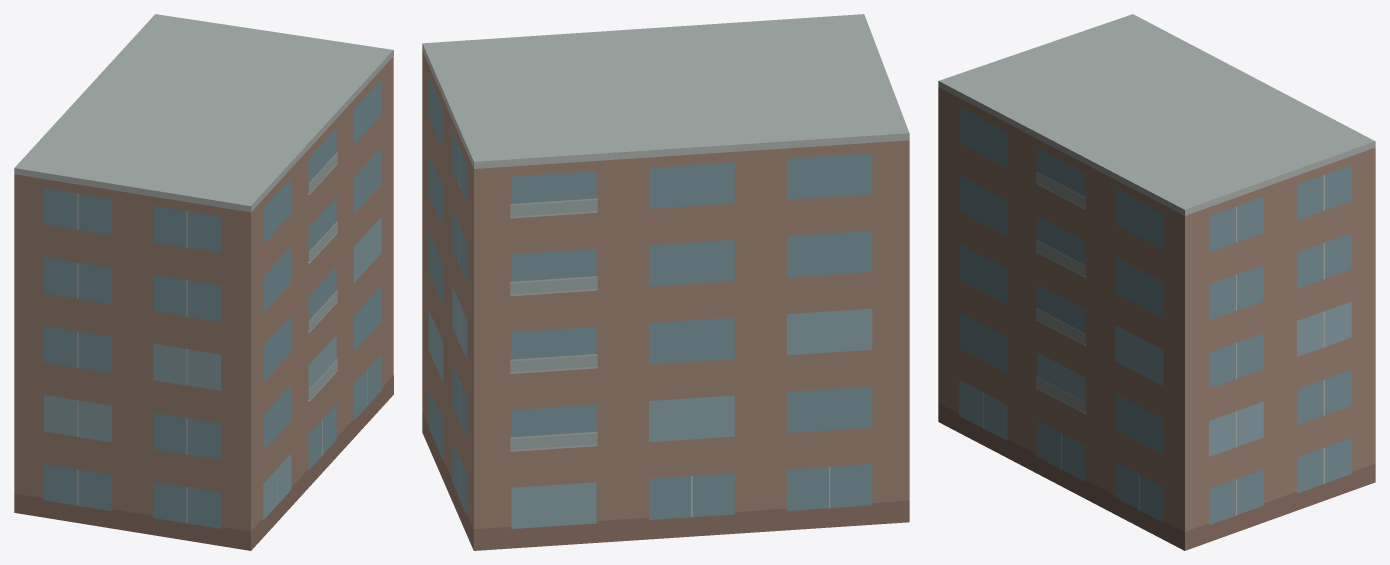
Rendered from survey-upis-32969354.glb.
3 renders of one model, left to right at view 1: azimuth 30°, elevation 25°; view 2: azimuth 150°, elevation 25°; view 3: azimuth 270°, elevation 25°, orthographic. The views are drawn at different scales.
Visible parts, largest first — view 1: survey-upis-32969354.tmp; view 2: survey-upis-32969354.tmp; view 3: survey-upis-32969354.tmp.
Part boxes in pixels (x1=…): survey-upis-32969354.tmp: x1=14, y1=14, x2=393, y2=550; survey-upis-32969354.tmp: x1=422, y1=14, x2=909, y2=550; survey-upis-32969354.tmp: x1=938, y1=14, x2=1375, y2=550.
Bounding box in the file's own units: 16.63 × 13.5 × 15.69.
